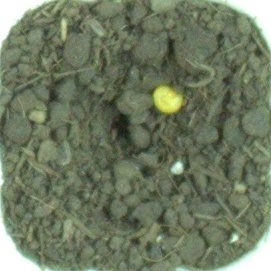pepper seed: (61, 28, 245, 142)
